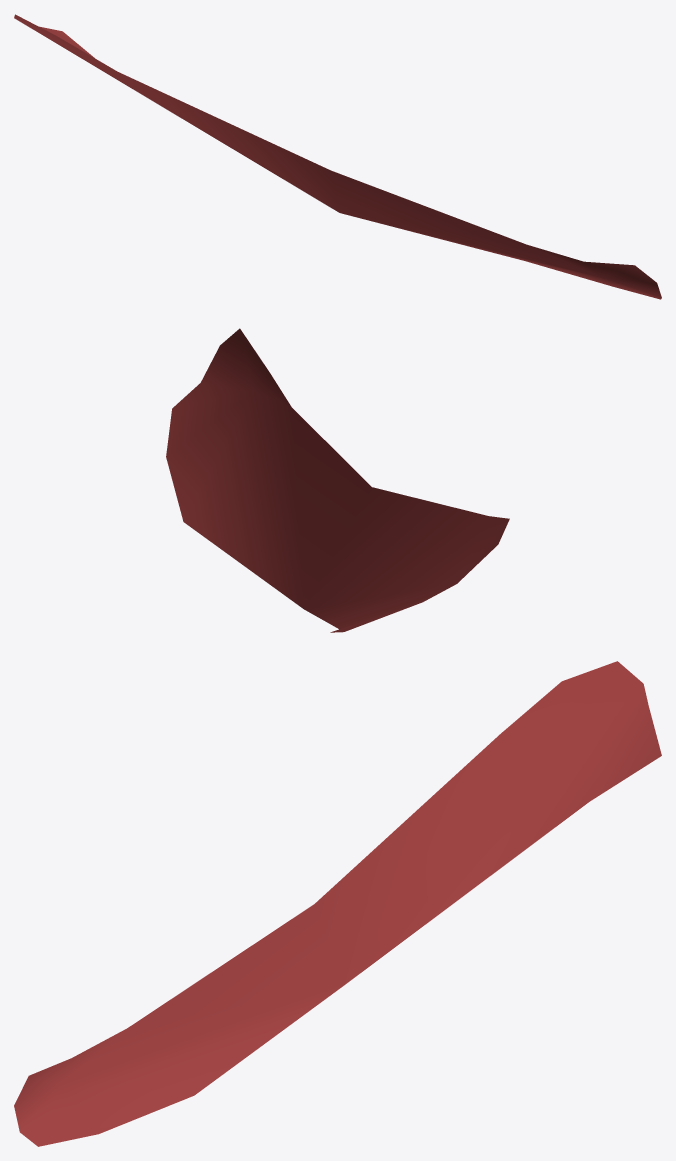
File: depressor-anguli-oris-or.glb
3 views of the same model, one above another, from view 1: azimuth 30°, elevation 25°; view 2: azimuth 150°, elevation 25°; view 3: azimuth 270°, elevation 25° (orthographic). The views are drawn at different scales.
Visible parts, largest first — view 1: Depressor anguli oris.or; view 2: Depressor anguli oris.or; view 3: Depressor anguli oris.or.
Part boxes in pixels (x1=…): Depressor anguli oris.or: x1=14, y1=14, x2=661, y2=299; Depressor anguli oris.or: x1=166, y1=328, x2=509, y2=632; Depressor anguli oris.or: x1=14, y1=661, x2=661, y2=1146.
Bounding box in the file's own units: 0.0214 × 0.0105 × 0.0247.
